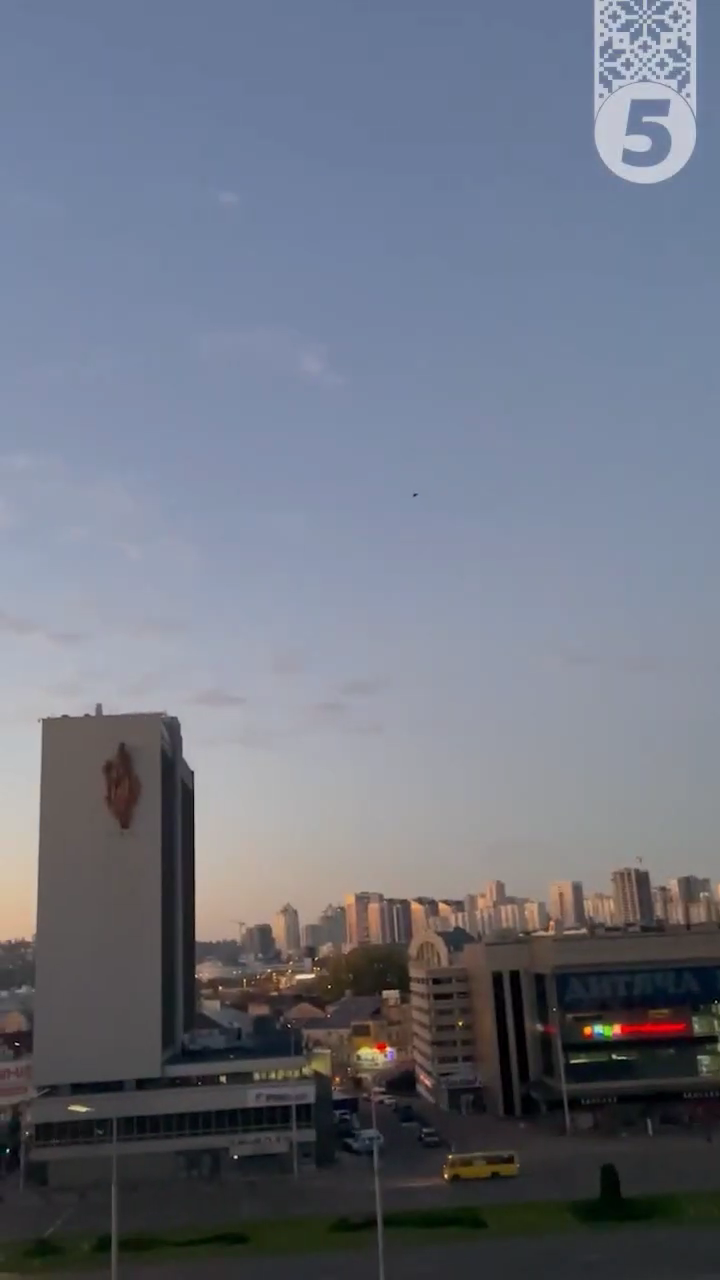shahed: (410, 491, 420, 499)
